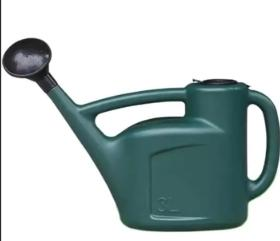ARROSOIR: (2, 4, 280, 241)
